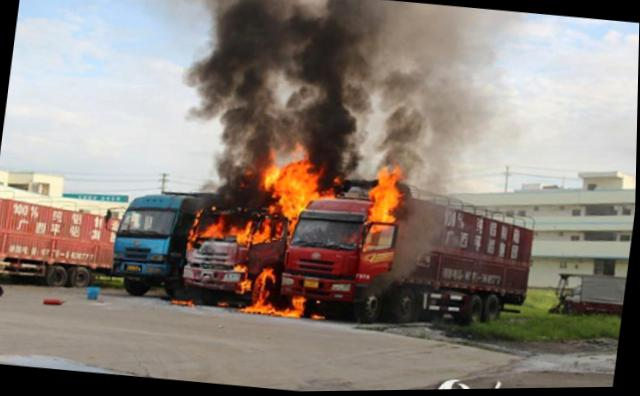fire: (274, 165, 319, 216), (367, 165, 404, 226), (260, 162, 279, 189), (228, 222, 251, 244), (253, 220, 273, 243), (246, 298, 273, 315), (251, 271, 267, 299), (200, 220, 224, 237), (274, 308, 302, 318), (292, 293, 306, 309), (239, 277, 251, 292), (261, 267, 275, 277), (233, 264, 247, 271)
